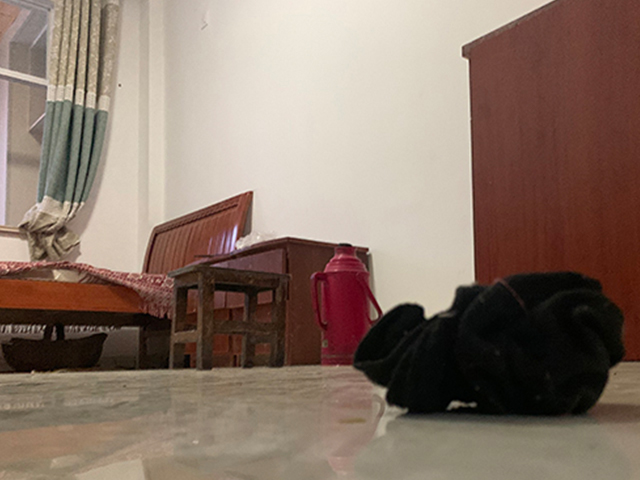bed: (1, 191, 253, 369)
cabinet: (185, 237, 328, 365)
curtain: (22, 1, 123, 262)
socks: (352, 270, 626, 416)
stool: (167, 262, 289, 370)
